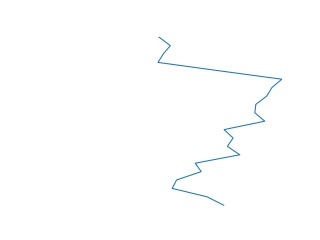floodPlain: (155, 35, 284, 209)
